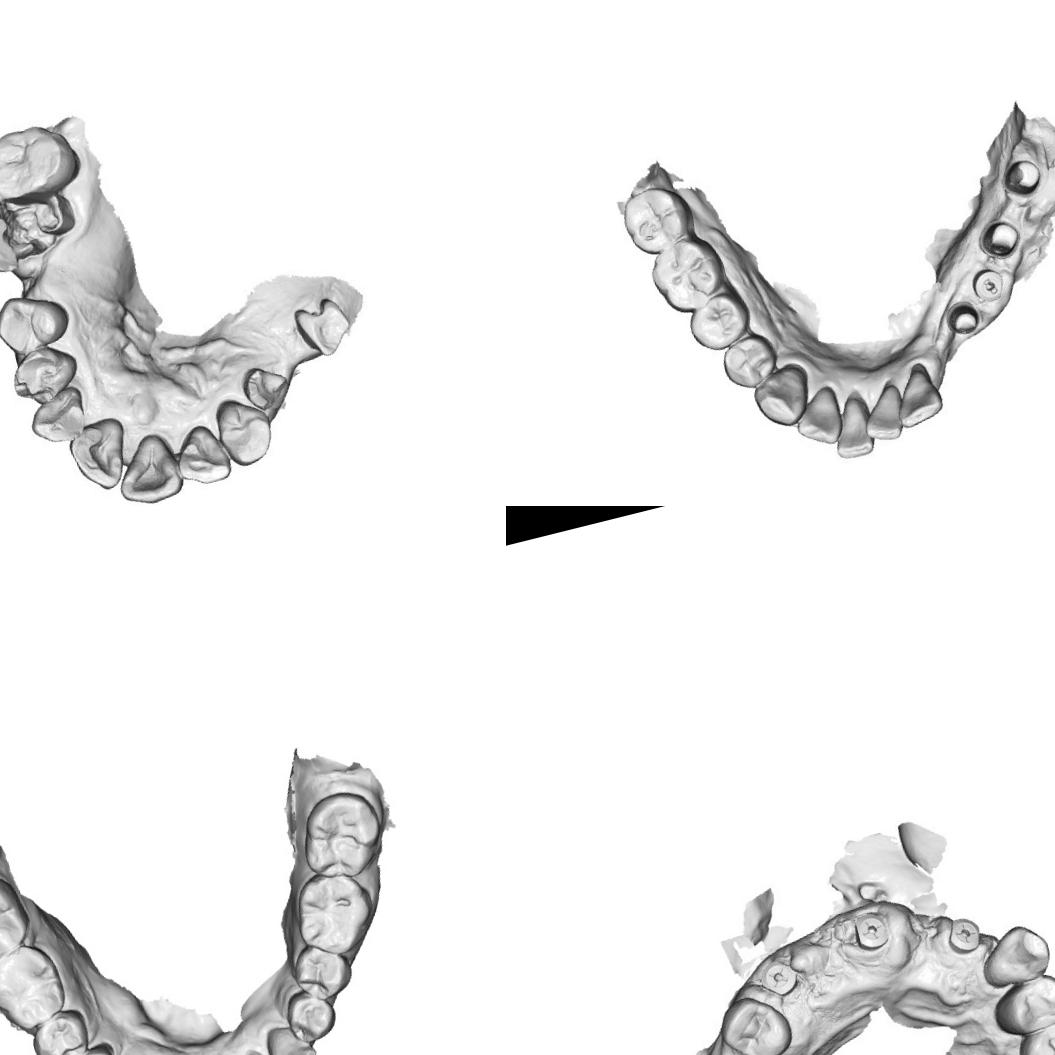abutment: (974, 212, 1025, 264), (996, 152, 1046, 200), (938, 295, 984, 341)
canine: (207, 388, 280, 474), (974, 917, 1055, 992), (746, 362, 816, 434), (263, 1018, 324, 1055)
implant_minus: (966, 262, 1009, 306)
implant_plus: (936, 908, 989, 961), (845, 912, 893, 957), (759, 956, 804, 1002)
incisor: (105, 425, 190, 506), (61, 414, 138, 500), (168, 419, 233, 491), (786, 381, 849, 454), (886, 362, 947, 430), (822, 392, 879, 463), (854, 380, 911, 446)
molar: (293, 782, 392, 888), (284, 864, 383, 965), (642, 229, 734, 320), (0, 937, 72, 1038), (0, 117, 81, 205), (616, 178, 698, 260), (0, 866, 36, 973)
premolar: (0, 281, 81, 364), (713, 983, 799, 1055), (985, 969, 1055, 1046), (682, 288, 758, 357), (286, 937, 356, 1006), (714, 328, 786, 394), (280, 982, 342, 1048), (23, 1002, 96, 1055), (1011, 1014, 1055, 1055), (59, 1039, 128, 1055)
